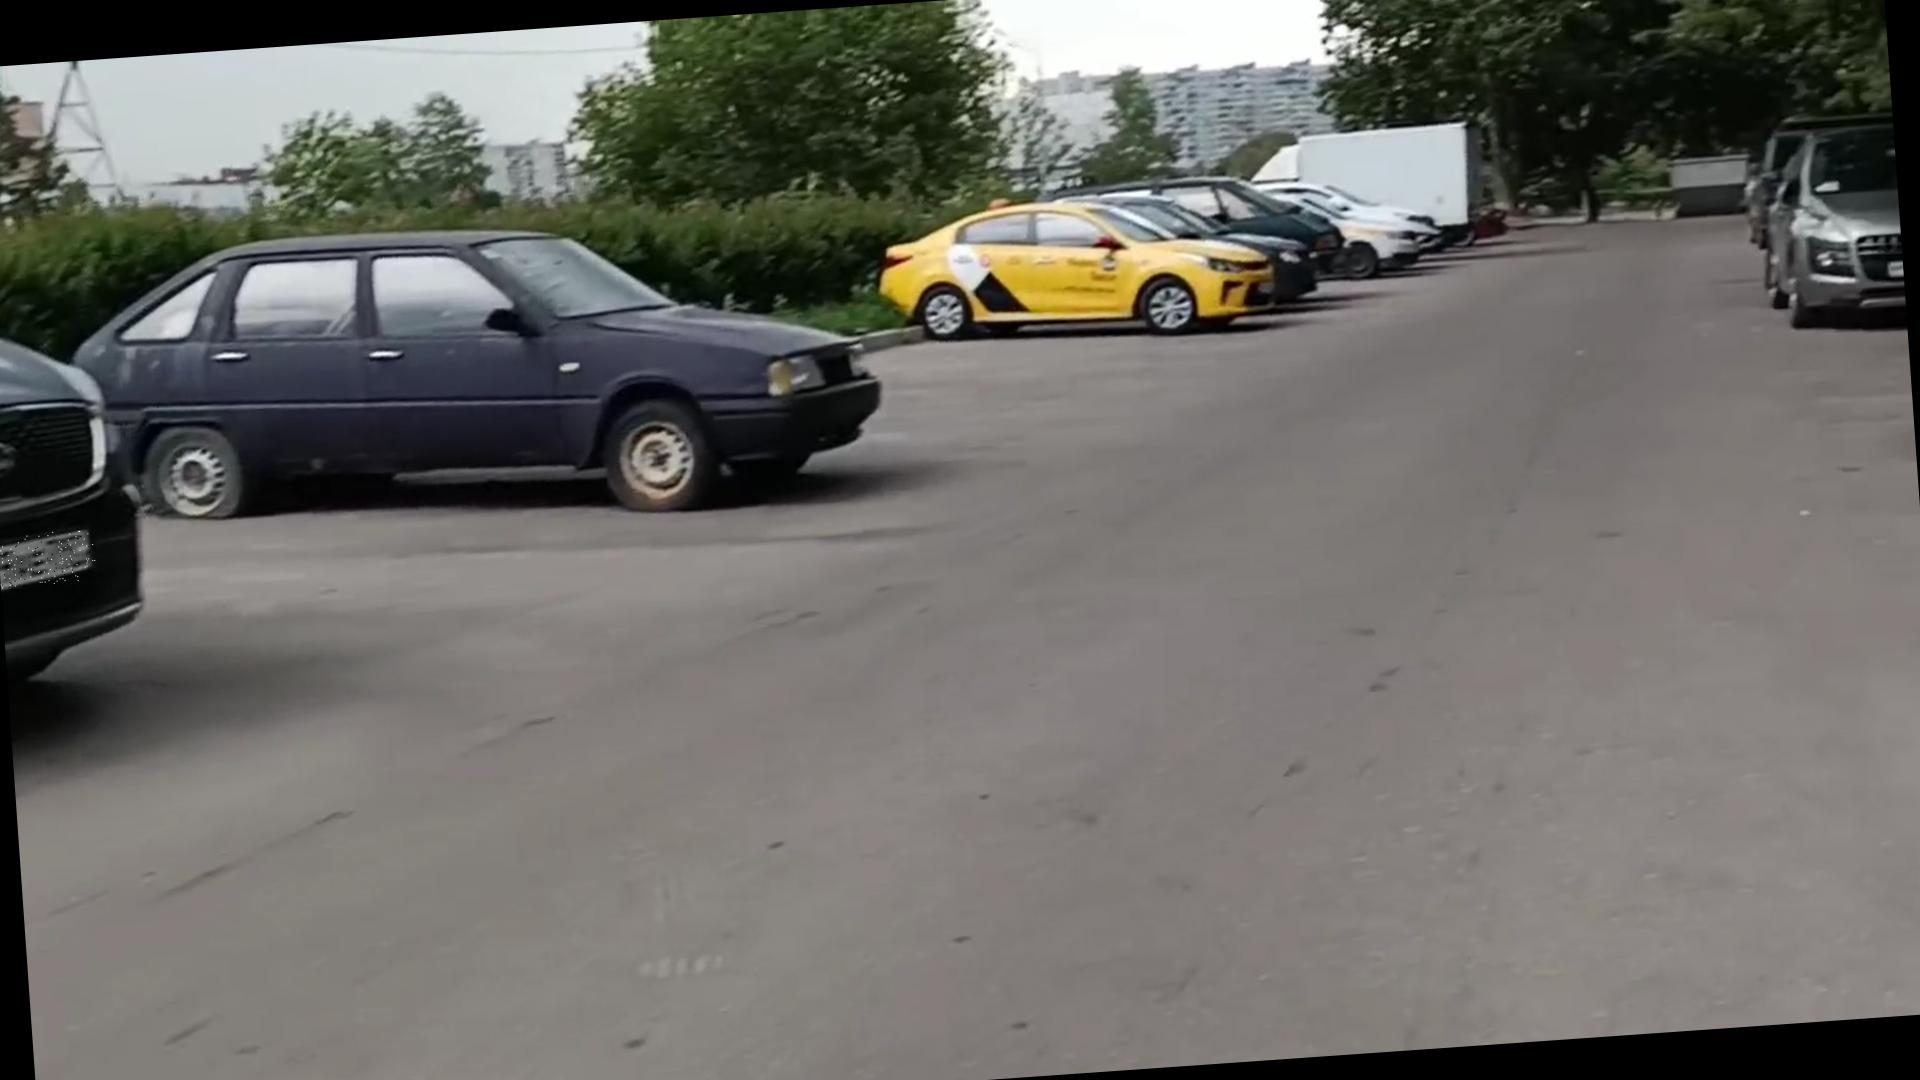plate: (1, 529, 98, 589)
